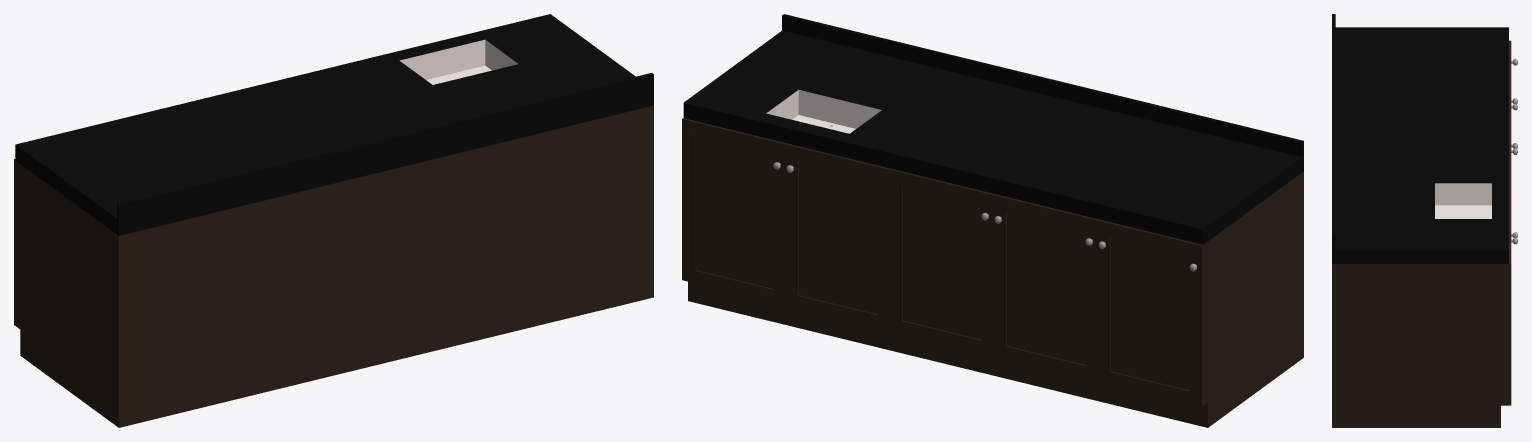
File: cooking-board.fbx
3 views of the same model, side by side, from view 1: azimuth 30°, elevation 25°; view 2: azimuth 150°, elevation 25°; view 3: azimuth 270°, elevation 25° (orthographic). The views are drawn at different scales.
Visible parts, largest first — view 1: Box056; view 2: Box056; view 3: Box056.
Part boxes in pixels (box(x1,y1,x2,y2)): Box056: box(14, 14, 653, 427); Box056: box(682, 14, 1303, 427); Box056: box(1332, 14, 1511, 427).
Bounding box in the file's own units: 42.45 × 16.93 × 14.94.
